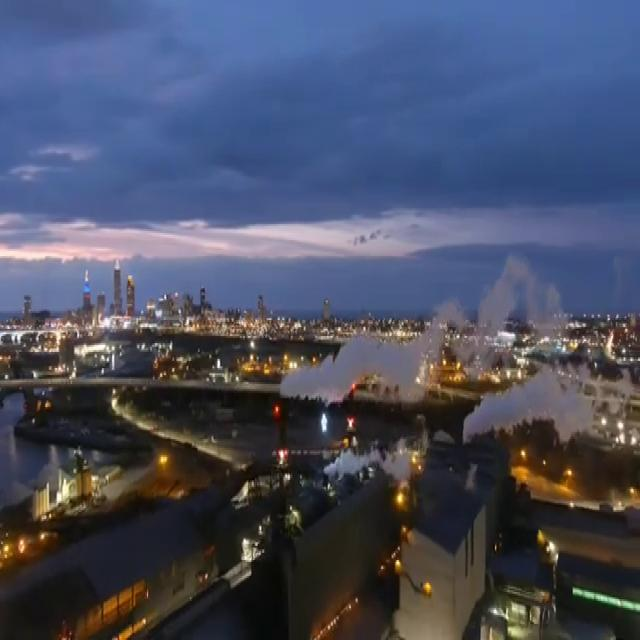smoke: (280, 327, 439, 405), (461, 357, 593, 444), (325, 434, 423, 498)
